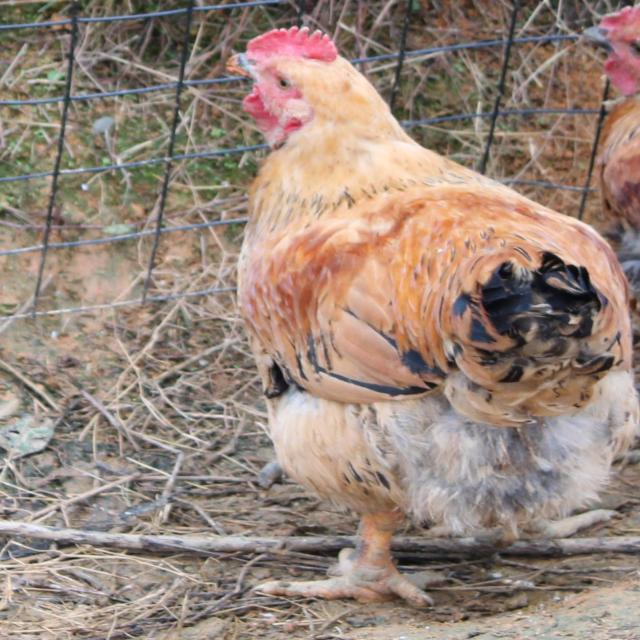hen: (222, 8, 640, 616)
